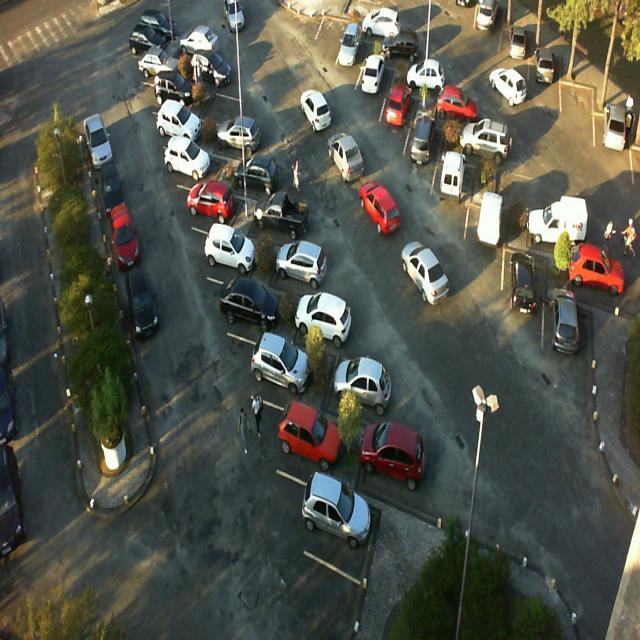space-empty: (202, 78, 258, 127), (496, 165, 552, 214), (315, 9, 352, 68), (561, 75, 590, 136)
space-occupied: (304, 468, 388, 582), (271, 390, 348, 479), (317, 353, 388, 431), (365, 425, 432, 507), (245, 326, 312, 406), (223, 270, 286, 343), (302, 288, 362, 358), (272, 235, 337, 297), (570, 260, 630, 322), (542, 303, 591, 374), (204, 224, 262, 281), (254, 192, 315, 246), (192, 176, 248, 234), (237, 148, 295, 200), (533, 205, 585, 263), (468, 198, 507, 272), (503, 241, 543, 312), (171, 139, 224, 188), (431, 163, 472, 225), (400, 122, 442, 182), (158, 101, 207, 151), (464, 124, 514, 170), (380, 92, 416, 152), (222, 117, 272, 160), (410, 61, 458, 104), (354, 63, 392, 116), (335, 40, 372, 94), (151, 75, 197, 116), (139, 46, 182, 87), (434, 94, 478, 134), (175, 31, 220, 68), (366, 11, 411, 48), (192, 58, 237, 94), (500, 30, 532, 79), (529, 50, 560, 100), (389, 38, 428, 74)
